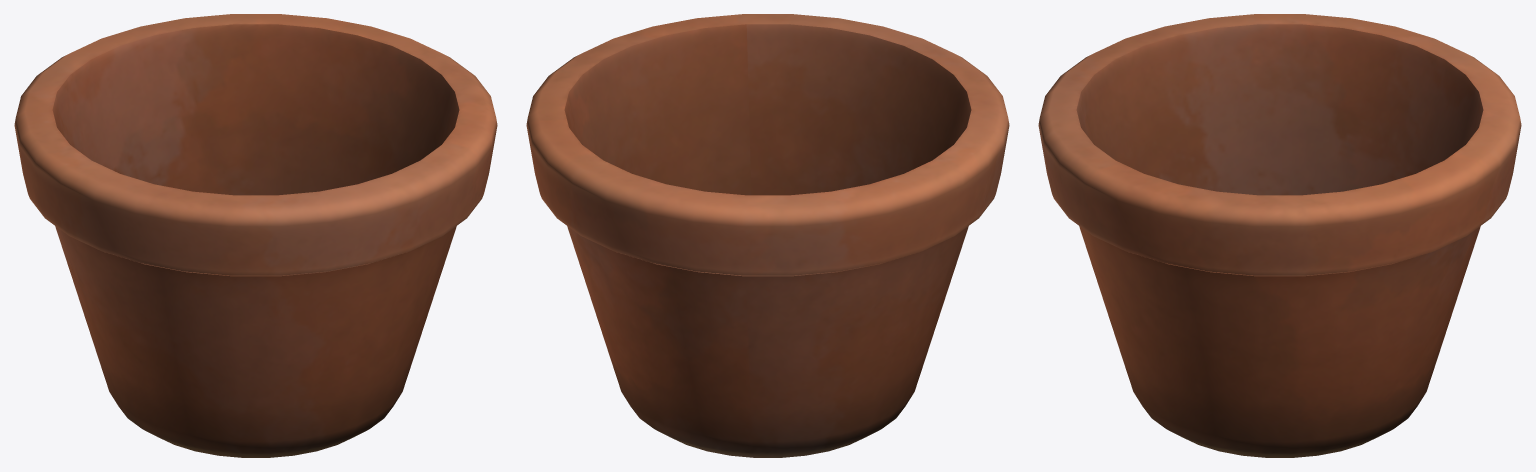
File: SM_Pot_06.fbx
The picture shows the model from 3 angles, left to right: view 1: azimuth 30°, elevation 25°; view 2: azimuth 150°, elevation 25°; view 3: azimuth 270°, elevation 25°; orthographic projection.
Parts seen in each view (by area): view 1: SM_Pot_06_LOD0; view 2: SM_Pot_06_LOD0; view 3: SM_Pot_06_LOD0.
Boxes of the visible parts, x1,y1,x2,y2 form: SM_Pot_06_LOD0: (14, 14, 497, 457); SM_Pot_06_LOD0: (526, 14, 1009, 457); SM_Pot_06_LOD0: (1038, 14, 1521, 457).
Size of the model in its own units: 24.37 by 24.5 by 16.88.
1 material, 1 textured.
